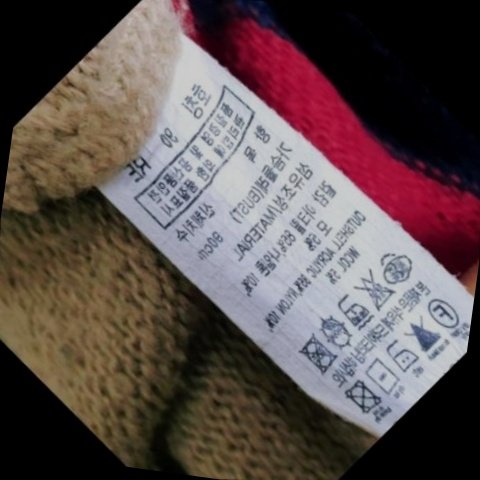DN_bleach: (350, 269, 392, 310), (402, 317, 445, 357)
DN_tumble_dry: (294, 330, 337, 377), (336, 377, 382, 417)
dry_clean_petrol_only: (373, 244, 416, 288), (422, 293, 464, 333)
dry_flat: (357, 354, 402, 397)
dry_flat_in_shade: (313, 311, 355, 352)
iron_medium: (328, 288, 374, 332), (381, 338, 421, 375)
